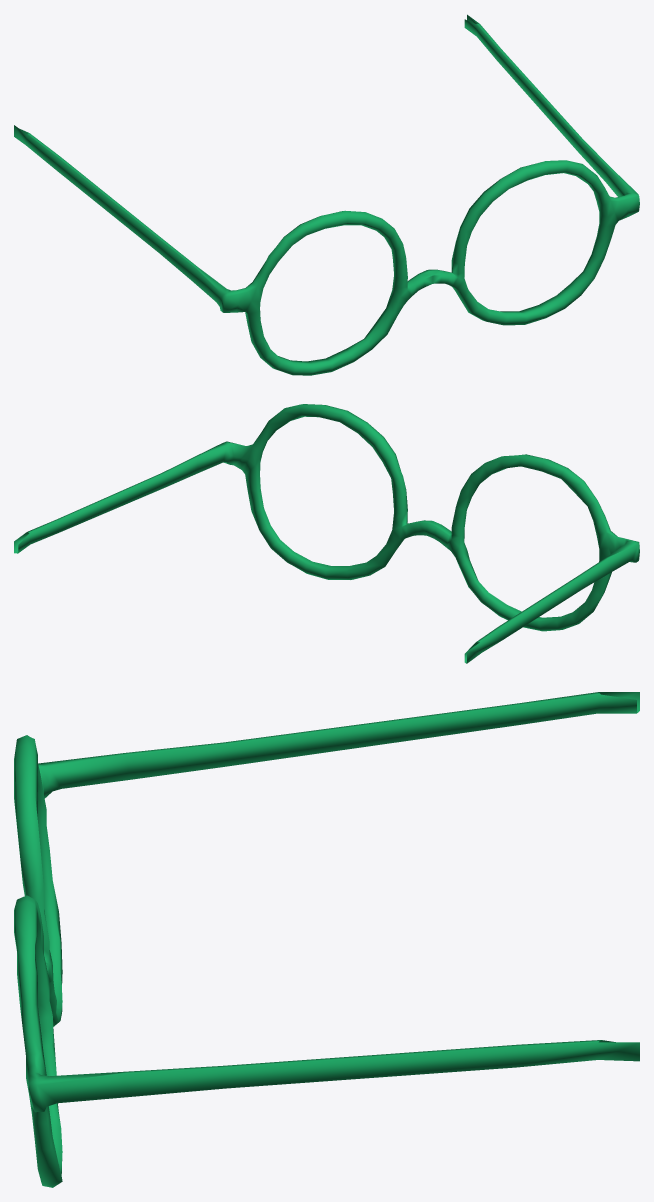
The model's file is _headwear_002.fbx.
The picture shows the model from 3 angles, top to bottom: view 1: azimuth 30°, elevation 25°; view 2: azimuth 150°, elevation 25°; view 3: azimuth 270°, elevation 25°; orthographic projection. The views are drawn at different scales.
Visible parts, largest first — view 1: f_headwear_002; view 2: f_headwear_002; view 3: f_headwear_002.
Boxes of the visible parts, <box> form: f_headwear_002: <box>14,14,639,375</box>; f_headwear_002: <box>14,404,639,663</box>; f_headwear_002: <box>14,692,639,1187</box>.
Size of the model in its own units: 16.33 by 5.63 by 12.24.
